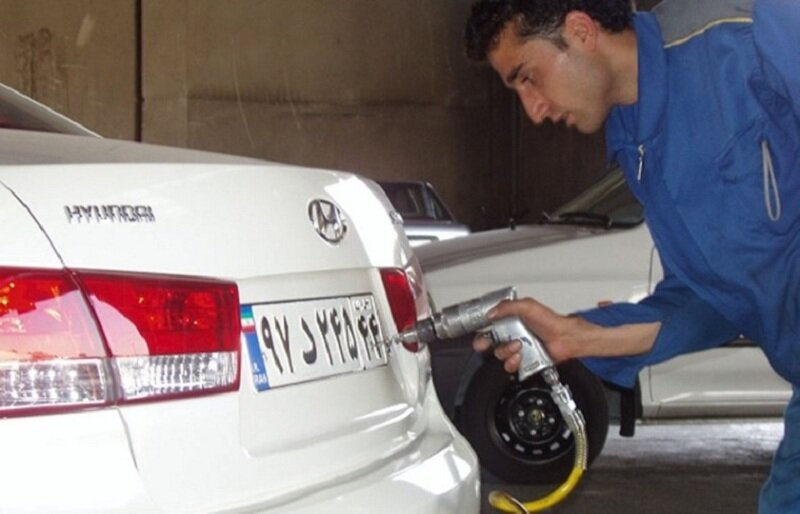car: (242, 293, 393, 388)
